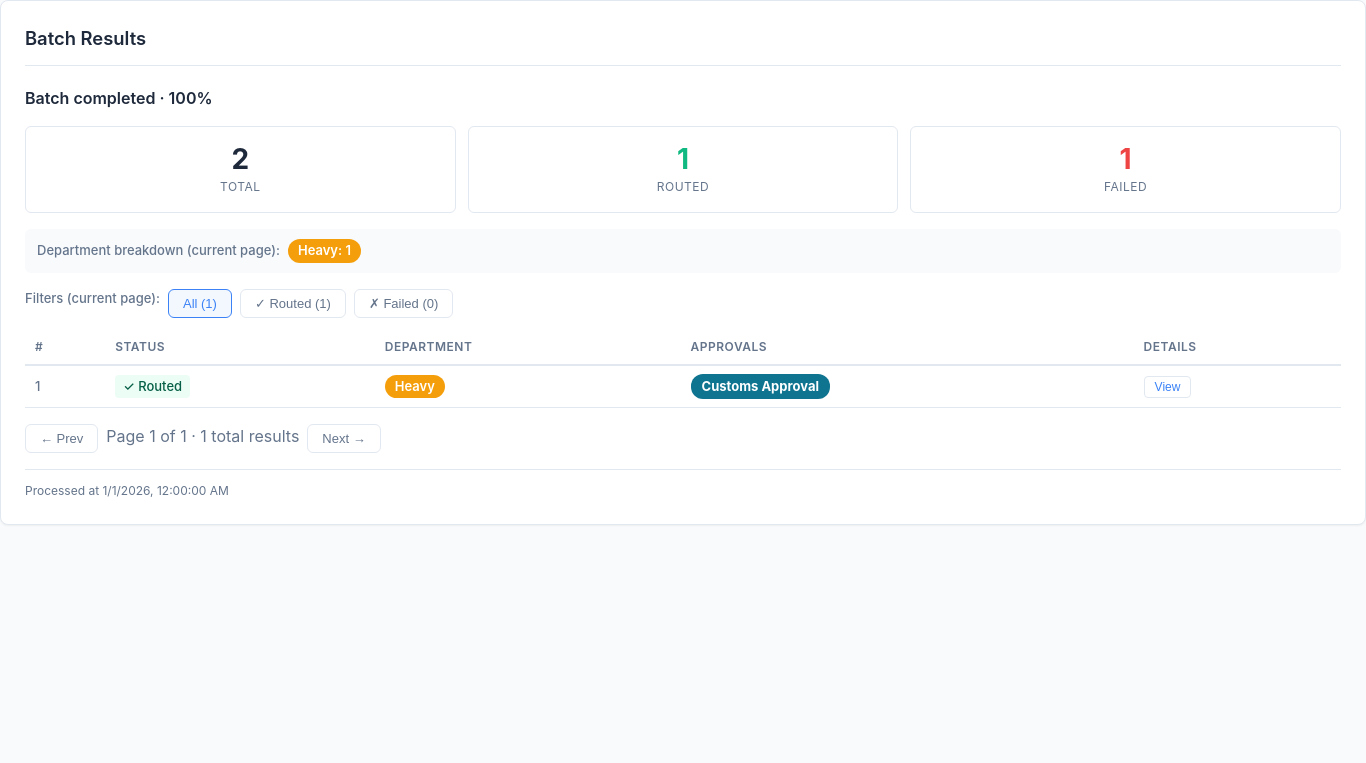
Test case: BatchResults approvals (generic, data-driven) › a future approval type renders without code changes
Click the button "View": click(1168, 387) [1144, 376, 1191, 398]
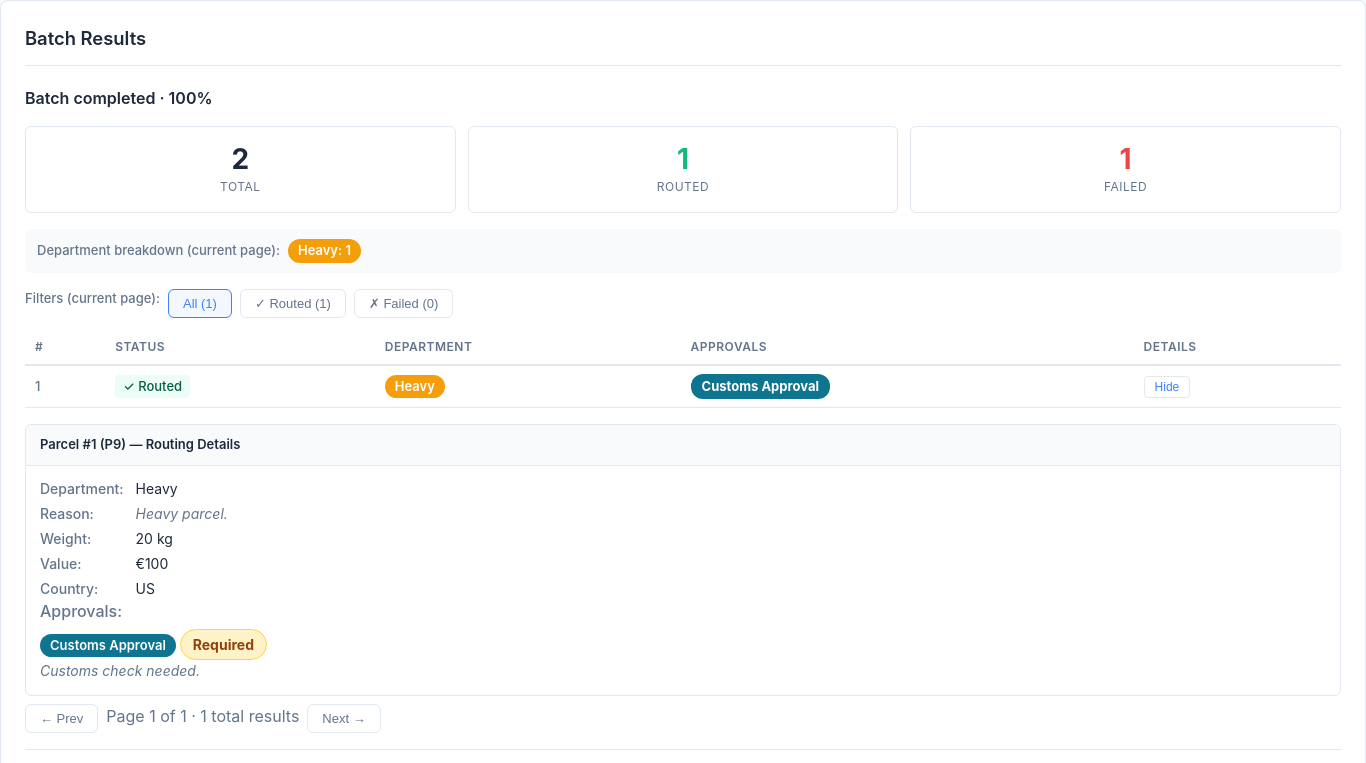
Check: the text "Customs Approval" next to "Required" is shown, box [50, 637, 166, 653]
Check: the text "Customs check needed." is shown, box [40, 662, 200, 679]
Check: the text "Required" is shown once, box [180, 629, 267, 660]
